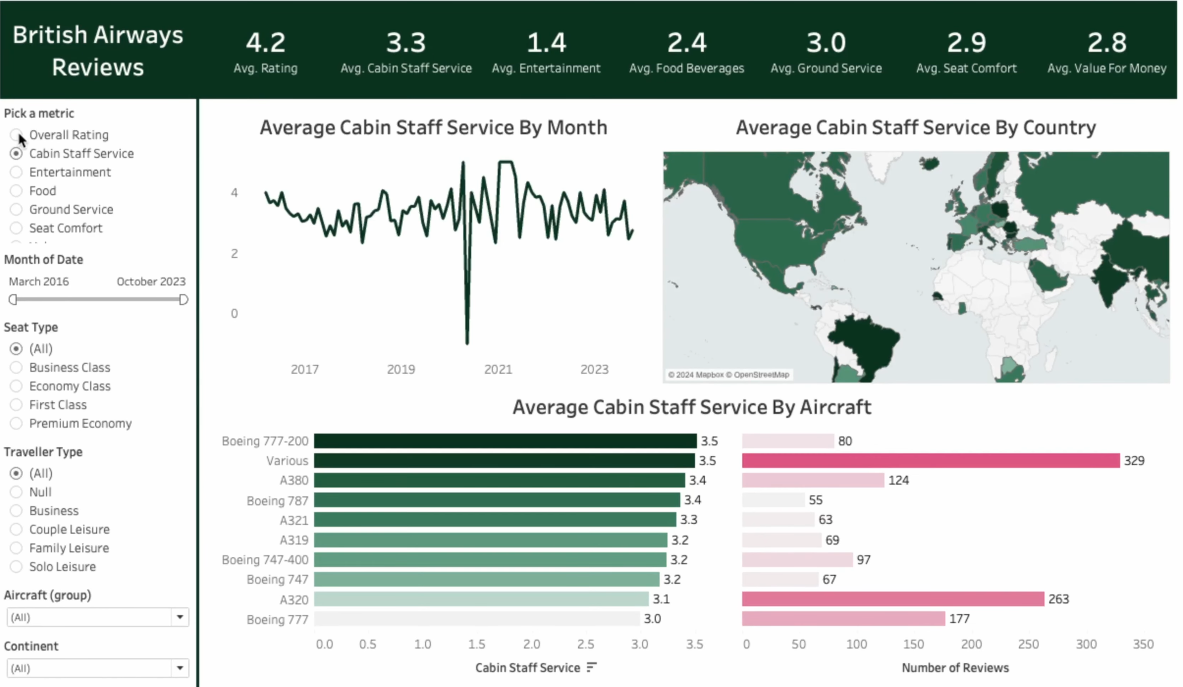

What the dashboard file says about the page in this screenshot:
{"tool":"tableau","page":{"name":"Dashboard 1","canvas":[1200,700],"ordinal":0},"visuals":[{"type":"text","box":[0,5,200,100]},{"type":"worksheet","title":"Summary","mark":"Automatic","box":[202,5,946,100]},{"type":"parameter","param":"[Parameters].[Parameter 1]","box":[0,108,200,144]},{"type":"worksheet","title":"Month","mark":"Automatic","rows":["Calculation_0381828930891776"],"cols":["date"],"box":[202,109,470,259]},{"type":"worksheet","title":"Map","mark":"Automatic","box":[679,109,469,259]},{"type":"filter","title":"Map","param":"[federated.1eep45i03cdr24140azch1bpl70g].[tmn:date:qk]","box":[0,252,200,69]},{"type":"filter","title":"Map","param":"[federated.1eep45i03cdr24140azch1bpl70g].[none:traveller_type:nk]","box":[0,321,200,144]},{"type":"worksheet","title":"Aircraft","mark":"Automatic","cols":["Calculation_0381828930891776","ba_reviews.csv_8E7EA77C9D2E4604AED52ABAB3489E0A"],"box":[202,374,947,319]},{"type":"filter","title":"Map","param":"[federated.1eep45i03cdr24140azch1bpl70g].[none:seat_type:nk]","box":[0,465,200,127]},{"type":"filter","title":"Map","param":"[federated.1eep45i03cdr24140azch1bpl70g].[Aircraft (group)]","box":[0,592,200,52]},{"type":"filter","title":"Map","param":"[federated.1eep45i03cdr24140azch1bpl70g].[none:Continent:nk]","box":[0,644,200,52]}]}

Visuals, with their boxes in screenshot pixels (x1, y1, x2, y2), scaled from the page's 1200x700 canvas onto the 1183x687 screenshot:
text: <region>0, 5, 197, 103</region>
"Summary" worksheet: <region>199, 5, 1132, 103</region>
parameter: <region>0, 106, 197, 247</region>
"Month" worksheet: <region>199, 107, 662, 361</region>
"Map" worksheet: <region>669, 107, 1132, 361</region>
"Map" filter: <region>0, 247, 197, 315</region>
"Map" filter: <region>0, 315, 197, 456</region>
"Aircraft" worksheet: <region>199, 367, 1133, 680</region>
"Map" filter: <region>0, 456, 197, 581</region>
"Map" filter: <region>0, 581, 197, 632</region>
"Map" filter: <region>0, 632, 197, 683</region>
